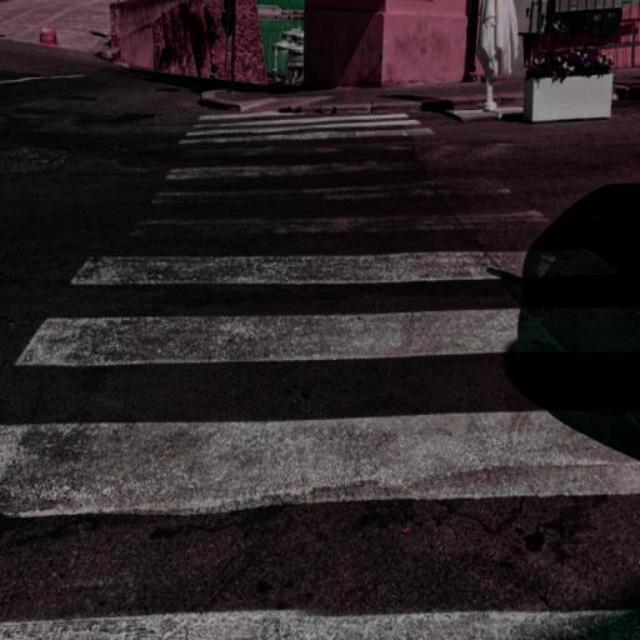sidewalk: (0, 110, 640, 640)
